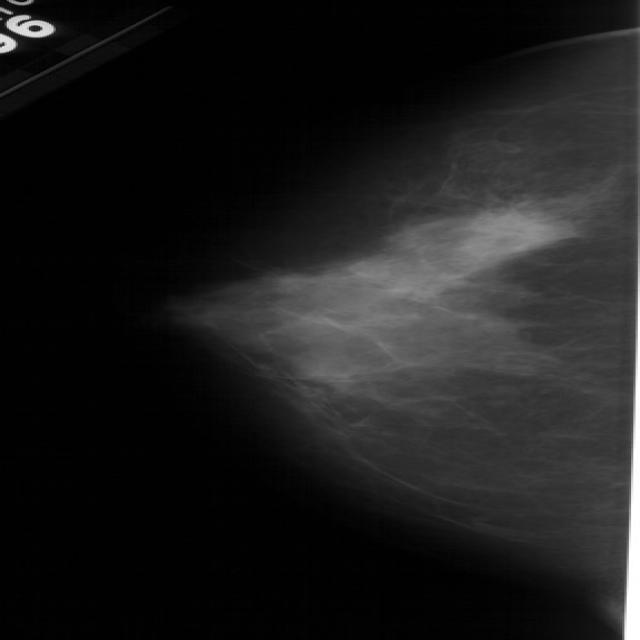tumour: (471, 207, 564, 242)
